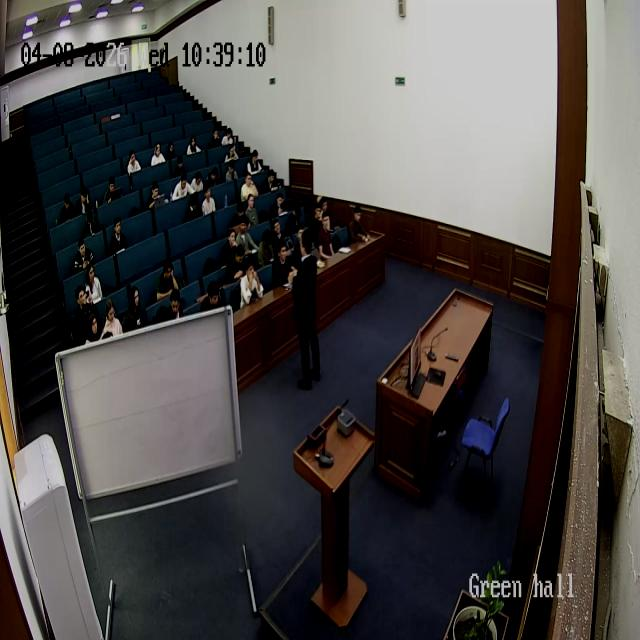person: (288, 230, 322, 390), (238, 258, 264, 308), (73, 285, 95, 344), (222, 225, 244, 280), (154, 258, 180, 301), (272, 241, 295, 289), (234, 215, 258, 257), (316, 212, 336, 260), (347, 204, 371, 243), (84, 262, 104, 308), (126, 287, 148, 328), (101, 298, 123, 338), (270, 213, 291, 254), (73, 237, 95, 276), (257, 226, 277, 268), (309, 195, 325, 241), (200, 282, 222, 314), (110, 216, 128, 255), (172, 170, 194, 201), (165, 287, 185, 321), (77, 184, 95, 220), (84, 309, 103, 343), (58, 193, 77, 227), (200, 180, 217, 217), (243, 194, 261, 228), (240, 170, 259, 202), (272, 191, 290, 221), (184, 191, 202, 221), (148, 181, 166, 211), (103, 174, 119, 206), (265, 167, 283, 194), (245, 149, 262, 176), (126, 149, 142, 177), (150, 141, 166, 167), (224, 140, 240, 166), (223, 160, 240, 184), (208, 126, 224, 150), (176, 150, 188, 178), (186, 136, 202, 156), (221, 126, 235, 148), (165, 139, 175, 162)
